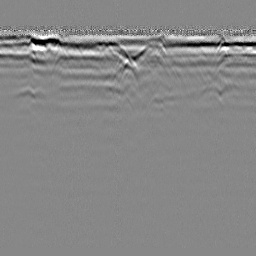cavity: (112, 56, 142, 78)
